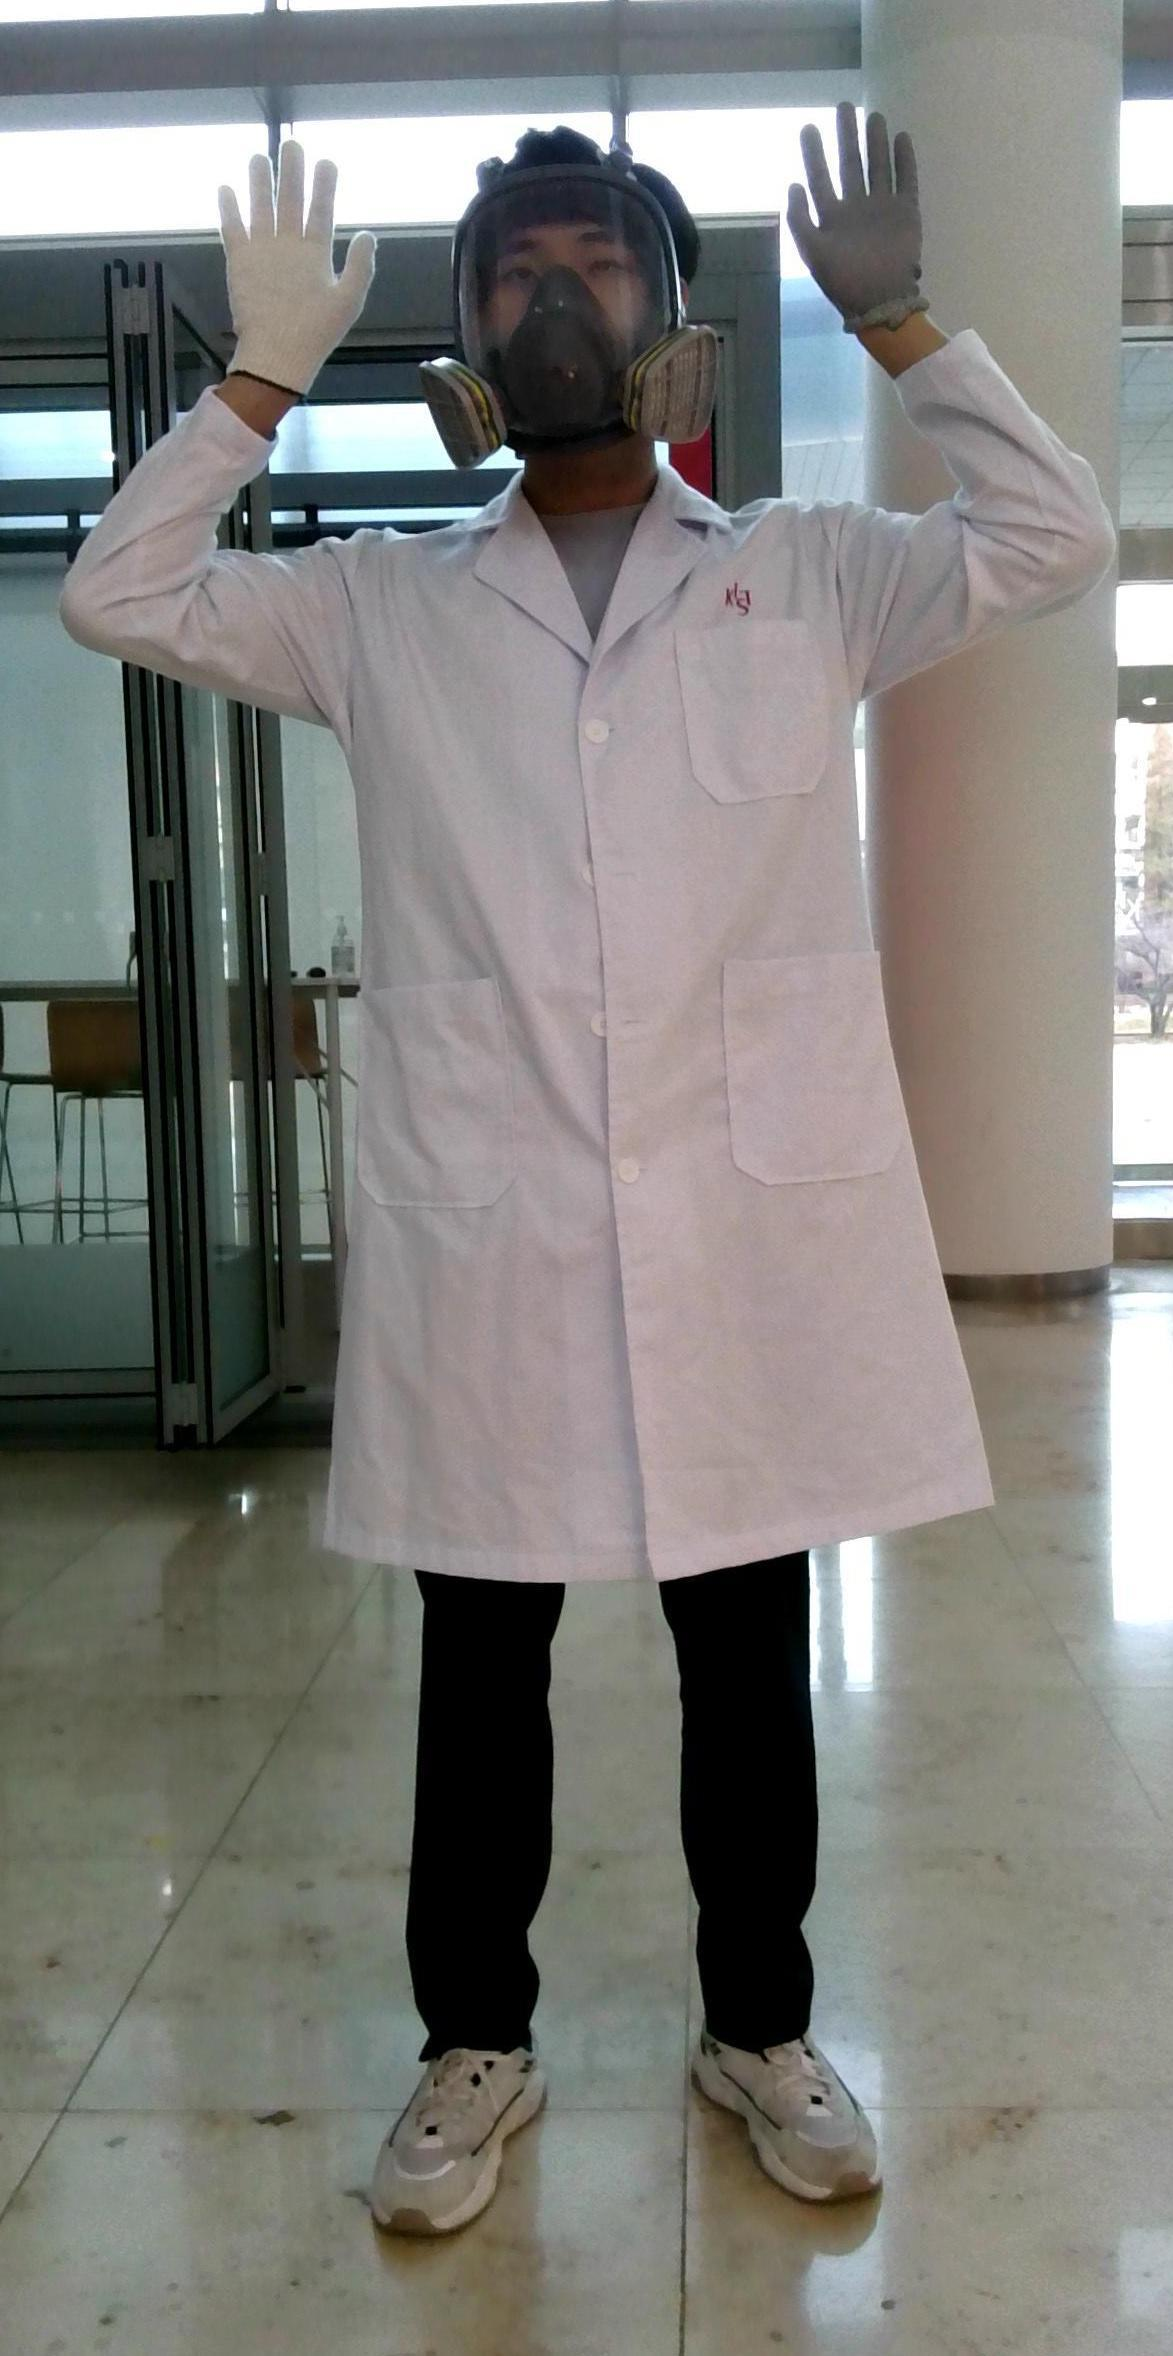lab_coat: (56, 427, 1099, 1561)
